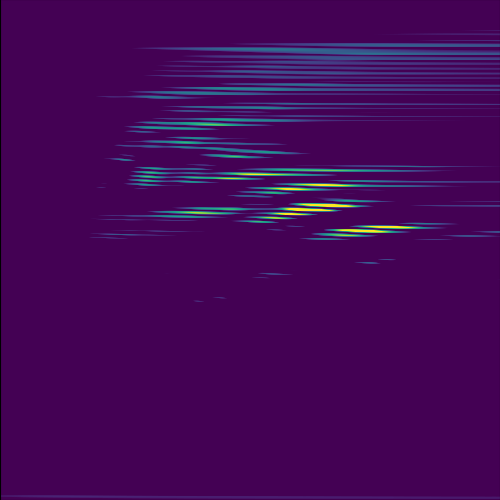semblance: (238, 195, 380, 228), (299, 218, 429, 244), (210, 162, 332, 186), (232, 180, 362, 197)
